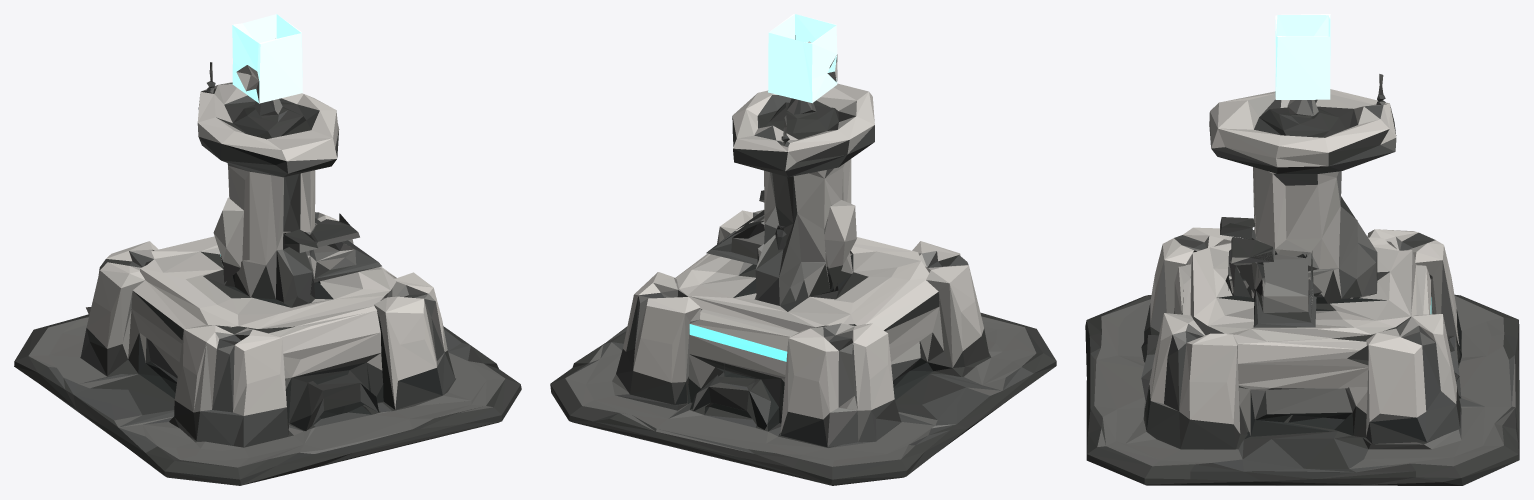
The model's file is Command HQ - Low Poly-BjDPk52a.glb.
The picture shows the model from 3 angles, left to right: view 1: azimuth 30°, elevation 25°; view 2: azimuth 150°, elevation 25°; view 3: azimuth 270°, elevation 25°; orthographic projection. The views are drawn at different scales.
Parts seen in each view (by area): view 1: tripo_part_0, tripo_part_3, tripo_part_5, tripo_part_1, tripo_part_7, tripo_part_4, tripo_part_9, tripo_part_6_glow, tripo_part_2, tripo_part_10; view 2: tripo_part_0, tripo_part_3, tripo_part_5, tripo_part_1, tripo_part_4, tripo_part_8, tripo_part_6_glow, tripo_part_10, tripo_part_13, tripo_part_2, tripo_part_0_glow, tripo_part_9; view 3: tripo_part_0, tripo_part_8, tripo_part_1, tripo_part_9, tripo_part_4, tripo_part_5, tripo_part_12, tripo_part_3, tripo_part_2, tripo_part_6_glow, tripo_part_7.
Part boxes in pixels (bbox=[...]): tripo_part_0: bbox=[14, 251, 521, 485]; tripo_part_3: bbox=[80, 241, 288, 447]; tripo_part_5: bbox=[140, 236, 395, 328]; tripo_part_1: bbox=[197, 82, 339, 177]; tripo_part_7: bbox=[269, 310, 383, 430]; tripo_part_4: bbox=[220, 163, 320, 302]; tripo_part_9: bbox=[374, 269, 470, 409]; tripo_part_6_glow: bbox=[232, 14, 302, 103]; tripo_part_2: bbox=[284, 213, 381, 282]; tripo_part_10: bbox=[213, 197, 243, 282]; tripo_part_0: bbox=[550, 295, 1056, 485]; tripo_part_3: bbox=[780, 241, 989, 447]; tripo_part_5: bbox=[676, 237, 929, 332]; tripo_part_1: bbox=[732, 83, 874, 177]; tripo_part_4: bbox=[755, 140, 852, 305]; tripo_part_8: bbox=[616, 272, 702, 404]; tripo_part_6_glow: bbox=[768, 14, 837, 103]; tripo_part_10: bbox=[824, 200, 856, 290]; tripo_part_13: bbox=[692, 375, 770, 429]; tripo_part_2: bbox=[706, 190, 831, 264]; tripo_part_0_glow: bbox=[689, 324, 787, 361]; tripo_part_9: bbox=[717, 209, 764, 243]; tripo_part_0: bbox=[1085, 265, 1519, 485]; tripo_part_8: bbox=[1265, 314, 1460, 443]; tripo_part_1: bbox=[1209, 89, 1396, 173]; tripo_part_9: bbox=[1125, 313, 1268, 449]; tripo_part_4: bbox=[1228, 167, 1377, 303]; tripo_part_5: bbox=[1183, 237, 1416, 341]; tripo_part_12: bbox=[1237, 338, 1368, 436]; tripo_part_3: bbox=[1144, 227, 1461, 349]; tripo_part_2: bbox=[1220, 217, 1321, 327]; tripo_part_6_glow: bbox=[1275, 14, 1330, 99]; tripo_part_7: bbox=[1141, 264, 1190, 400].
Bounding box in the file's own units: 0.9956 × 0.9368 × 0.9951.
